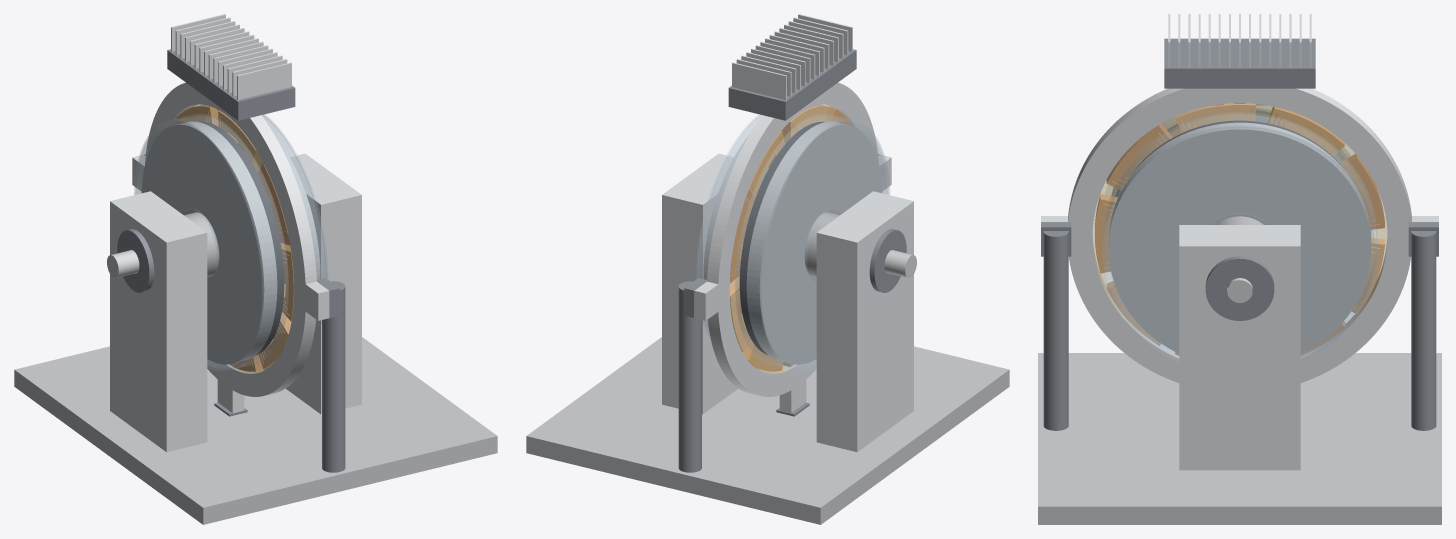
Rendered from afpmg-rev-ga1.glb.
The picture shows the model from 3 angles, left to right: view 1: azimuth 30°, elevation 25°; view 2: azimuth 150°, elevation 25°; view 3: azimuth 270°, elevation 25°; orthographic projection. The views are drawn at different scales.
Visible parts, largest first — view 1: Base plate 6061-T6, 360 x 400 x 20, Windage shroud (2 mm wall, 4 mm clearance), Pedestal A 6061-T6, Rotor 1 back-iron disc AISI 1018, D260 x 16, Stator collar 6061-T6, ID 292 / OD 342, 3 ears, Pedestal B 6061-T6, AFE heat-sink fins, Stator posts (2) and pad, shimmed, Stator potting, AlN-filled epoxy, 14.0 mm, Integrated AFE housing (3-phase boost rectifier), Rotor 1 carbon hoop 1.2 mm, Phase C coils (3 x 4 T, 1650 x 0.10 mm Litz) (+5 smaller); view 2: Base plate 6061-T6, 360 x 400 x 20, Windage shroud (2 mm wall, 4 mm clearance), Pedestal A 6061-T6, Rotor 1 back-iron disc AISI 1018, D260 x 16, Stator collar 6061-T6, ID 292 / OD 342, 3 ears, Pedestal B 6061-T6, AFE heat-sink fins, Stator posts (2) and pad, shimmed, Stator potting, AlN-filled epoxy, 14.0 mm, Integrated AFE housing (3-phase boost rectifier), Rotor 1 carbon hoop 1.2 mm, Phase C coils (3 x 4 T, 1650 x 0.10 mm Litz) (+5 smaller); view 3: Base plate 6061-T6, 360 x 400 x 20, Windage shroud (2 mm wall, 4 mm clearance), Rotor 2 back-iron disc AISI 1018, D260 x 16, Pedestal B 6061-T6, Stator collar 6061-T6, ID 292 / OD 342, 3 ears, Stator posts (2) and pad, shimmed, Stator potting, AlN-filled epoxy, 14.0 mm, Integrated AFE housing (3-phase boost rectifier), Bearing cover B, Phase B coils (3 x 4 T, 1650 x 0.10 mm Litz), Phase A coils (3 x 4 T, 1650 x 0.10 mm Litz), Phase C coils (3 x 4 T, 1650 x 0.10 mm Litz) (+3 smaller).
Part boxes in pixels (x1,y1,x2,y2): Base plate 6061-T6, 360 x 400 x 20: (14, 337, 497, 524); Windage shroud (2 mm wall, 4 mm clearance): (134, 114, 327, 370); Pedestal A 6061-T6: (110, 191, 207, 452); Rotor 1 back-iron disc AISI 1018, D260 x 16: (141, 121, 277, 364); Stator collar 6061-T6, ID 292 / OD 342, 3 ears: (132, 82, 329, 412); Pedestal B 6061-T6: (265, 153, 361, 414); AFE heat-sink fins: (171, 14, 291, 99); Stator posts (2) and pad, shimmed: (144, 154, 345, 472); Stator potting, AlN-filled epoxy, 14.0 mm: (173, 104, 293, 373); Integrated AFE housing (3-phase boost rectifier): (167, 49, 295, 120); Rotor 1 carbon hoop 1.2 mm: (199, 121, 284, 355); Phase C coils (3 x 4 T, 1650 x 0.10 mm Litz): (218, 110, 291, 368); Base plate 6061-T6, 360 x 400 x 20: (526, 337, 1009, 524); Windage shroud (2 mm wall, 4 mm clearance): (696, 114, 889, 370); Pedestal A 6061-T6: (816, 191, 913, 452); Rotor 1 back-iron disc AISI 1018, D260 x 16: (746, 121, 882, 364); Stator collar 6061-T6, ID 292 / OD 342, 3 ears: (694, 82, 891, 412); Pedestal B 6061-T6: (662, 153, 759, 414); AFE heat-sink fins: (732, 14, 852, 99); Stator posts (2) and pad, shimmed: (678, 154, 879, 472); Stator potting, AlN-filled epoxy, 14.0 mm: (730, 104, 850, 373); Integrated AFE housing (3-phase boost rectifier): (728, 49, 856, 120); Rotor 1 carbon hoop 1.2 mm: (739, 121, 824, 355); Phase C coils (3 x 4 T, 1650 x 0.10 mm Litz): (729, 104, 828, 351); Base plate 6061-T6, 360 x 400 x 20: (1038, 353, 1441, 524); Windage shroud (2 mm wall, 4 mm clearance): (1102, 112, 1377, 361); Rotor 2 back-iron disc AISI 1018, D260 x 16: (1108, 122, 1371, 353); Pedestal B 6061-T6: (1179, 225, 1300, 470); Stator collar 6061-T6, ID 292 / OD 342, 3 ears: (1041, 88, 1438, 382); Stator posts (2) and pad, shimmed: (1041, 222, 1438, 430); Stator potting, AlN-filled epoxy, 14.0 mm: (1092, 103, 1387, 326); Integrated AFE housing (3-phase boost rectifier): (1164, 38, 1315, 88); Bearing cover B: (1205, 256, 1274, 320); Phase B coils (3 x 4 T, 1650 x 0.10 mm Litz): (1106, 124, 1384, 355); Phase A coils (3 x 4 T, 1650 x 0.10 mm Litz): (1095, 106, 1345, 355); Phase C coils (3 x 4 T, 1650 x 0.10 mm Litz): (1106, 103, 1384, 345).
Size of the model in its own units: 0.36 by 0.445 by 0.4.
